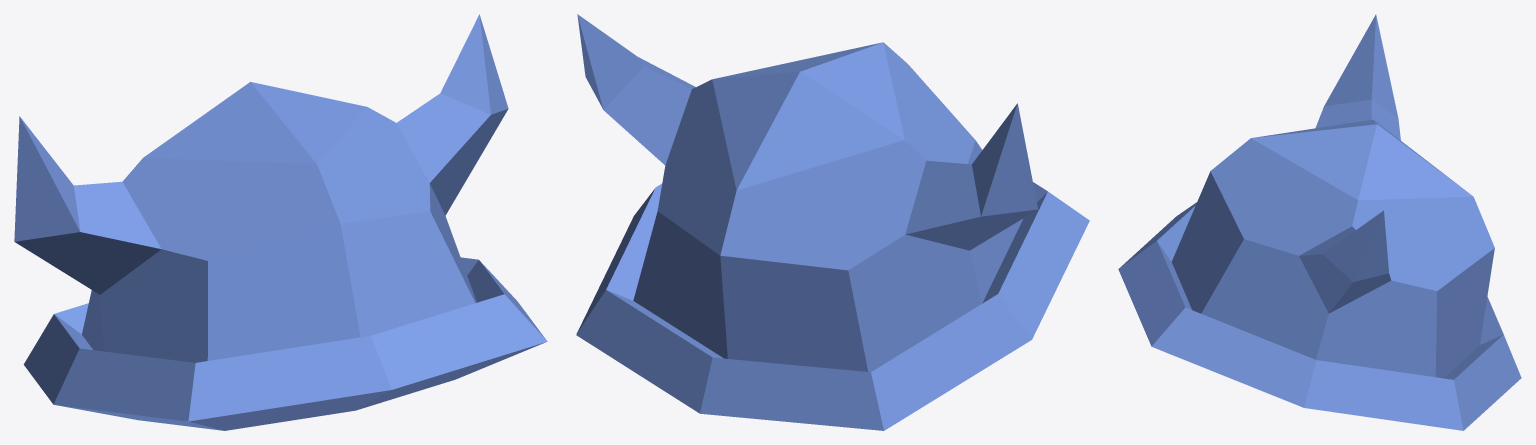
The model's file is viking_hat.glb.
3 views of the same model, side by side, from view 1: azimuth 30°, elevation 25°; view 2: azimuth 150°, elevation 25°; view 3: azimuth 270°, elevation 25° (orthographic). The views are drawn at different scales.
Visible parts, largest first — view 1: Cube; view 2: Cube; view 3: Cube.
Part boxes in pixels (x1,y1,x2,y2): Cube: (14,14,547,430); Cube: (576,14,1089,430); Cube: (1118,14,1521,430).
Bounding box in the file's own units: 2.26 × 1.49 × 1.99.
